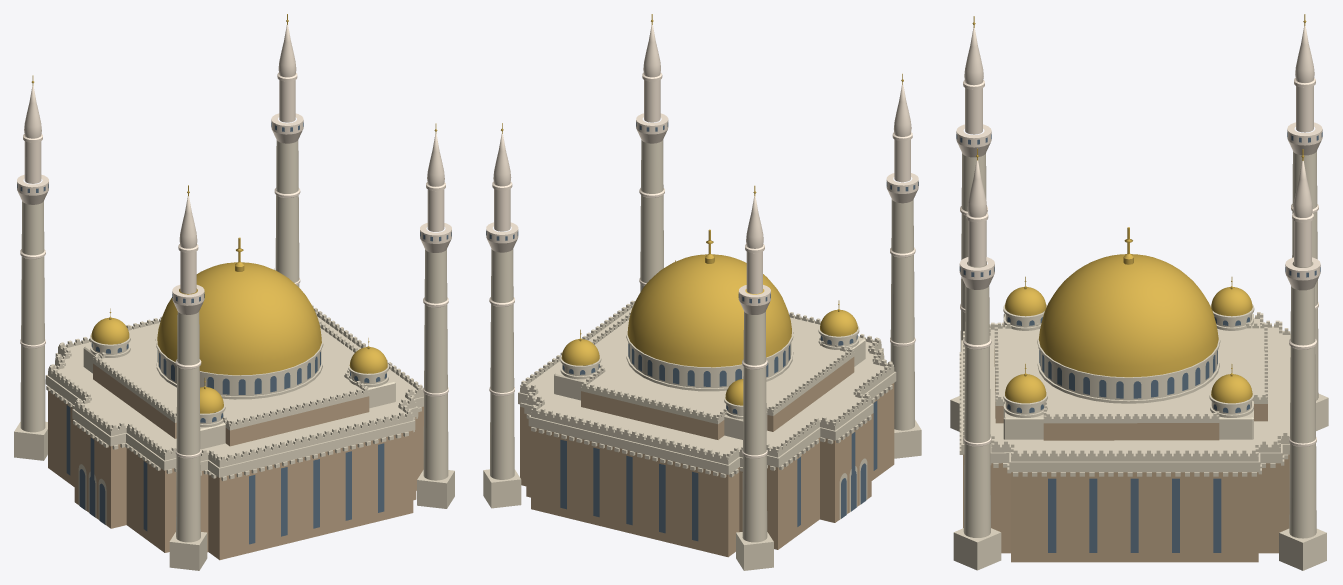
File: abuja-national-mosque.detail.glb
The picture shows the model from 3 angles, left to right: view 1: azimuth 30°, elevation 25°; view 2: azimuth 150°, elevation 25°; view 3: azimuth 270°, elevation 25°; orthographic projection. The views are drawn at different scales.
Parts seen in each view (by area): view 1: Abuja National Mosque; view 2: Abuja National Mosque; view 3: Abuja National Mosque.
Part boxes in pixels (x1=…): Abuja National Mosque: x1=14, y1=14, x2=454, y2=570; Abuja National Mosque: x1=483, y1=14, x2=921, y2=570; Abuja National Mosque: x1=950, y1=14, x2=1328, y2=570.
Size of the model in its own units: 77.7 by 95.15 by 79.3.
